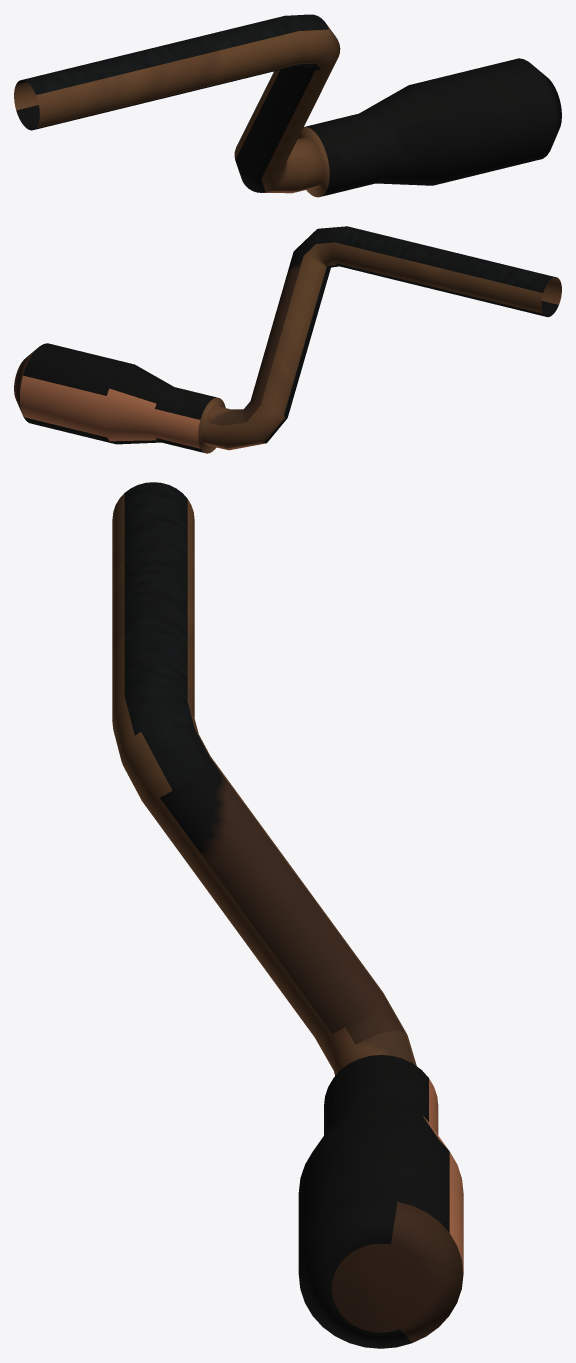
File: HandleFIXNewAnim.fbx
3 renders of one model, top to bottom at view 1: azimuth 30°, elevation 25°; view 2: azimuth 150°, elevation 25°; view 3: azimuth 270°, elevation 25°, orthographic. The views are drawn at different scales.
Parts seen in each view (by area): view 1: AnyConv.com__PhonographUVFix; view 2: AnyConv.com__PhonographUVFix; view 3: AnyConv.com__PhonographUVFix.
Part boxes in pixels (x1,y1,x2,y2): AnyConv.com__PhonographUVFix: [14, 14, 561, 197]; AnyConv.com__PhonographUVFix: [14, 226, 561, 453]; AnyConv.com__PhonographUVFix: [112, 482, 463, 1348].
Bounding box in the file's own units: 416 × 179 × 135.
